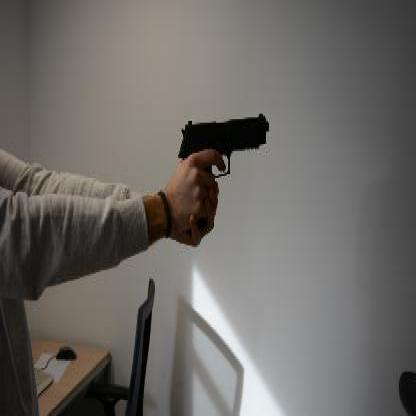pistol: (177, 111, 269, 234)
